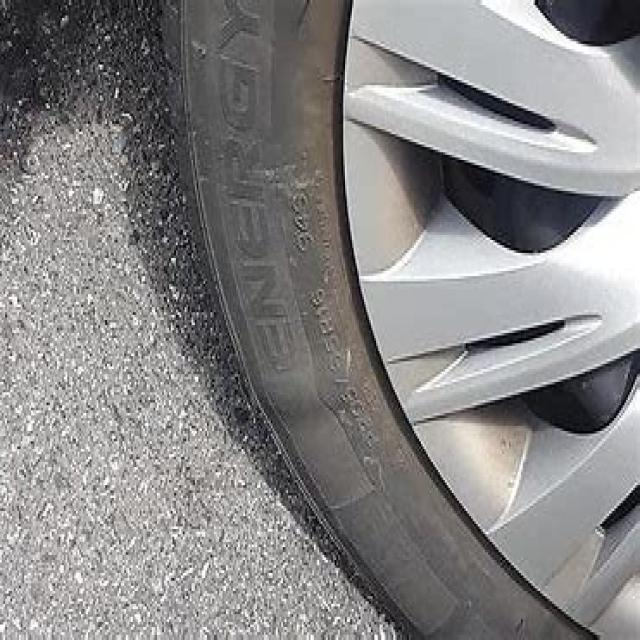Bulge: (253, 350, 360, 434)
